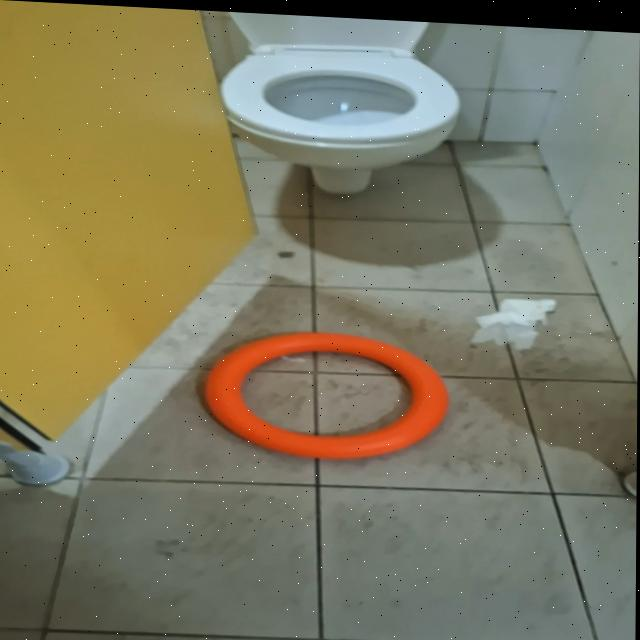note: (202, 322, 451, 461)
